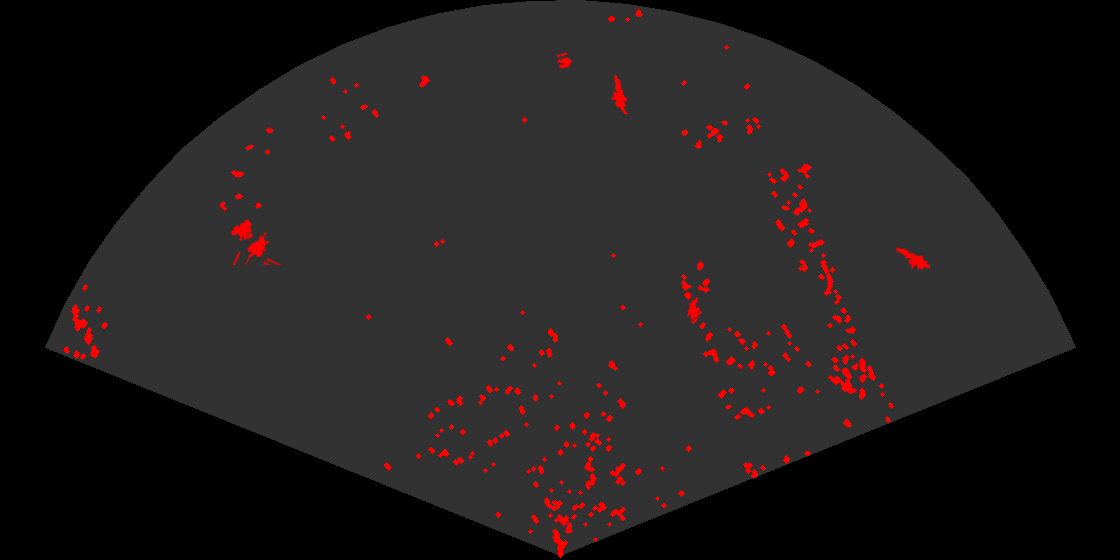AUV: (686, 295, 701, 322)
ball: (555, 51, 573, 70)
cage: (229, 218, 283, 265)
frogman: (893, 246, 930, 272), (610, 73, 630, 114)
